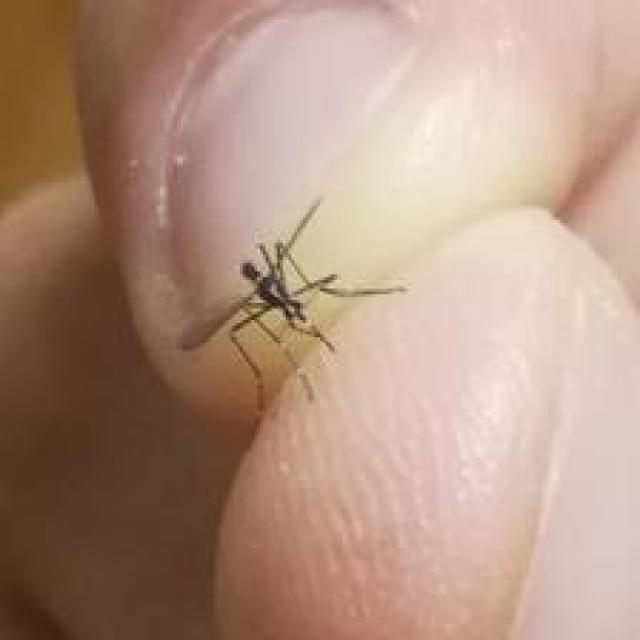Aedes albopictus: (177, 195, 409, 418)
